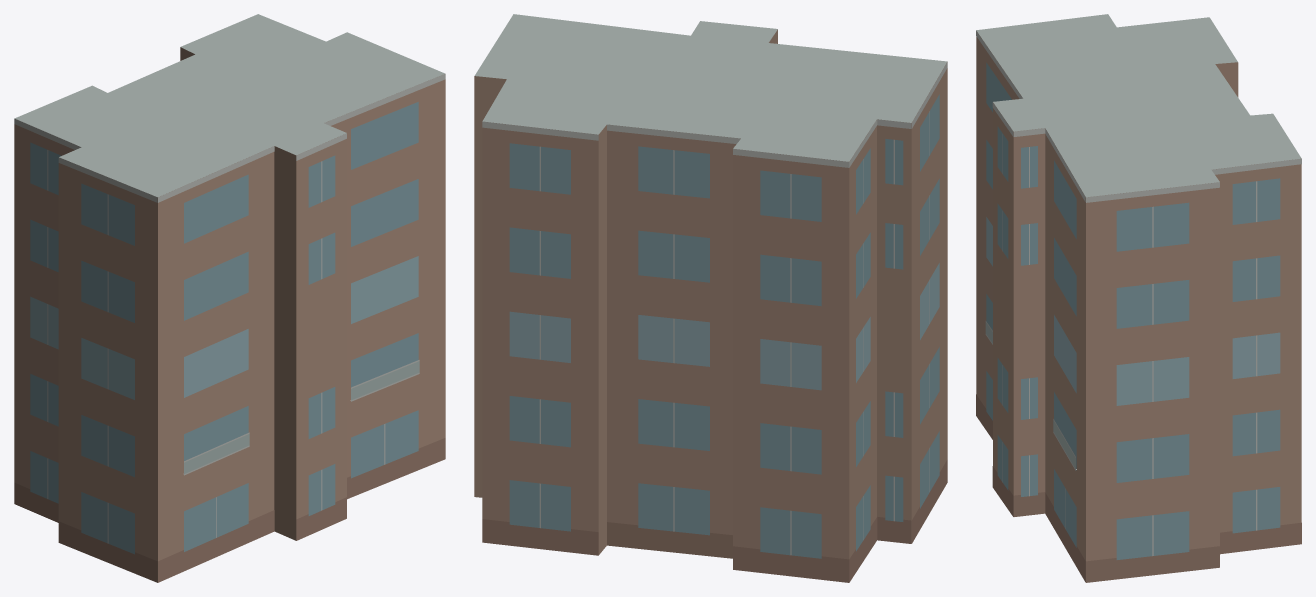
File: survey-upis-32755754.glb
The picture shows the model from 3 angles, left to right: view 1: azimuth 30°, elevation 25°; view 2: azimuth 150°, elevation 25°; view 3: azimuth 270°, elevation 25°; orthographic projection. The views are drawn at different scales.
Visible parts, largest first — view 1: survey-upis-32755754.tmp; view 2: survey-upis-32755754.tmp; view 3: survey-upis-32755754.tmp.
Part boxes in pixels (bbox=[...]): survey-upis-32755754.tmp: bbox=[14, 14, 445, 582]; survey-upis-32755754.tmp: bbox=[474, 14, 947, 582]; survey-upis-32755754.tmp: bbox=[976, 14, 1301, 582].
Bounding box in the file's own units: 17.14 × 16.8 × 12.87.
